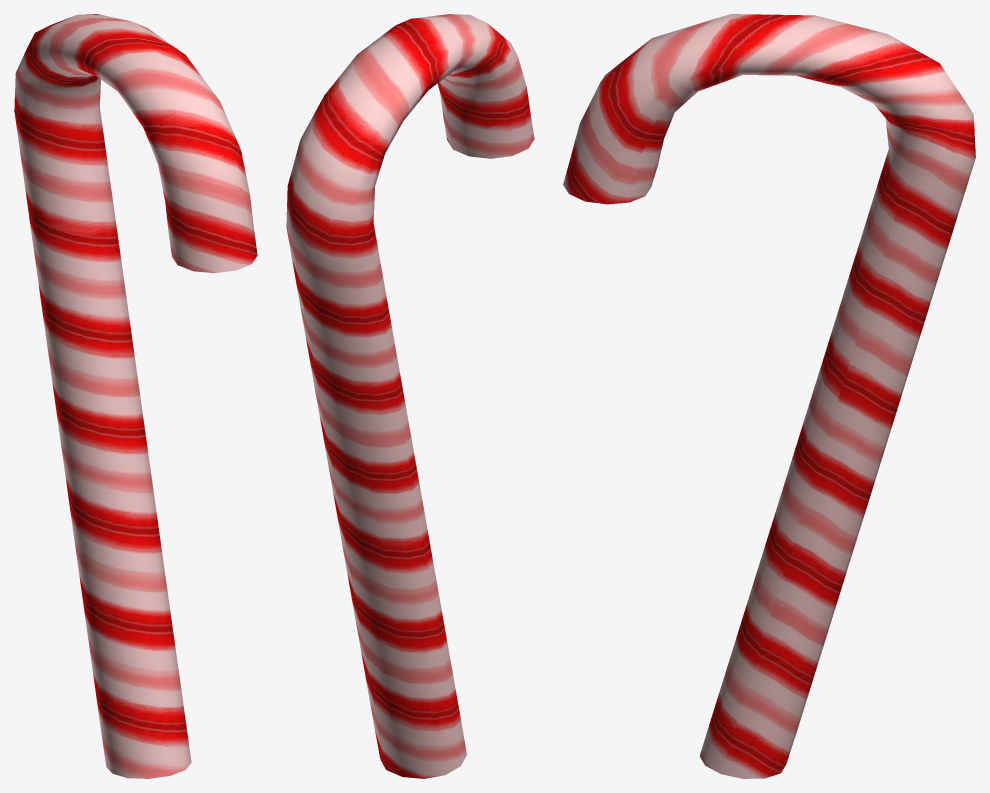
The model's file is buzzer-lod0.glb.
3 renders of one model, left to right at view 1: azimuth 30°, elevation 25°; view 2: azimuth 150°, elevation 25°; view 3: azimuth 270°, elevation 25°, orthographic. The views are drawn at different scales.
Visible parts, largest first — view 1: candystick; view 2: candystick; view 3: candystick.
Part boxes in pixels (left/top/right/bottom): candystick: left=14, top=14, right=257, bottom=778; candystick: left=286, top=14, right=534, bottom=778; candystick: left=563, top=14, right=975, bottom=778.
Bounding box in the file's own units: 0.1462 × 1.36 × 0.6821.
1 material, 1 textured.
